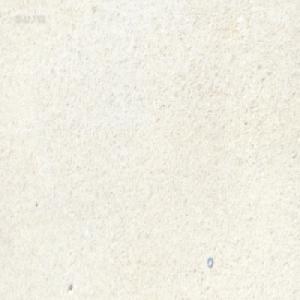Washer: (206, 256, 213, 267)
